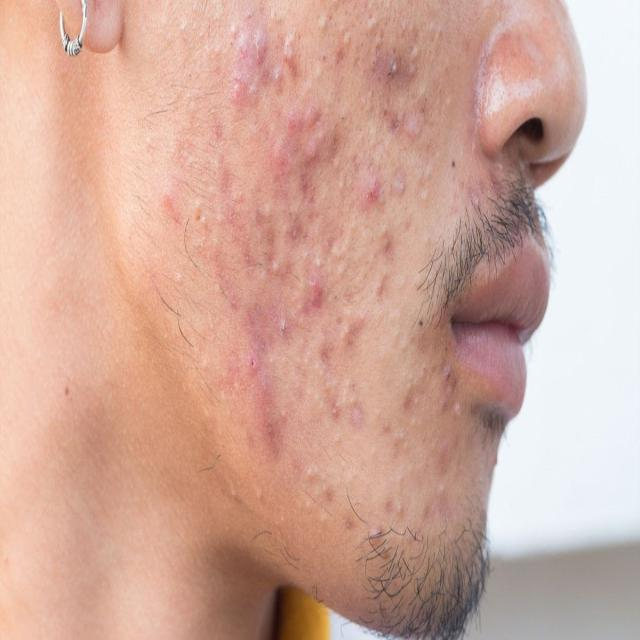Acne: (161, 3, 452, 540)
